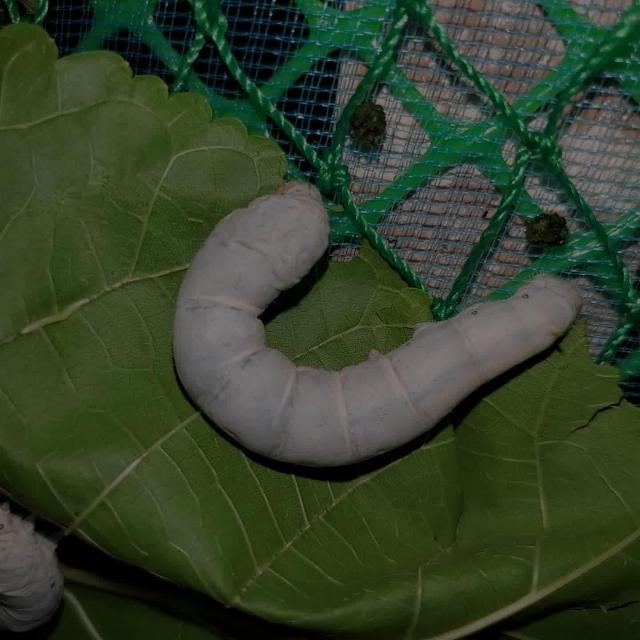Healthy: (160, 169, 599, 479)
